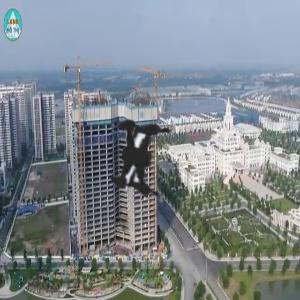drone: (12, 44, 255, 287)
